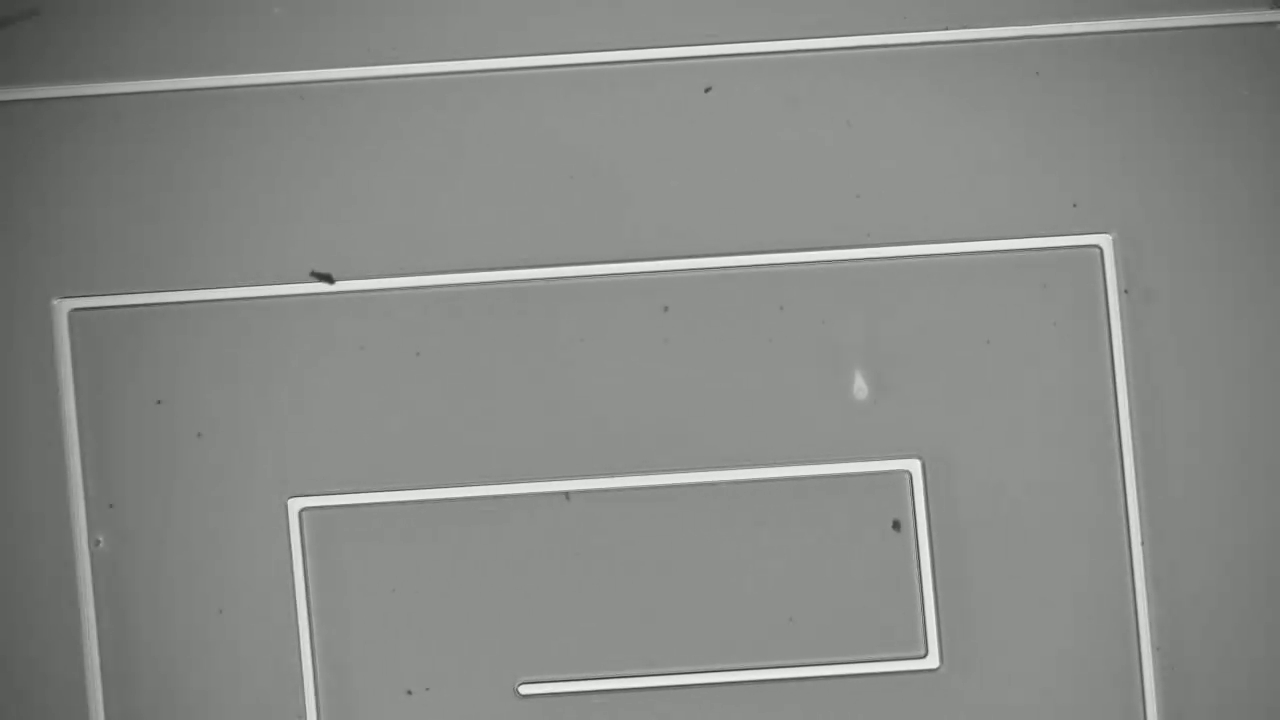stains_enbedded: (304, 260, 347, 300)
